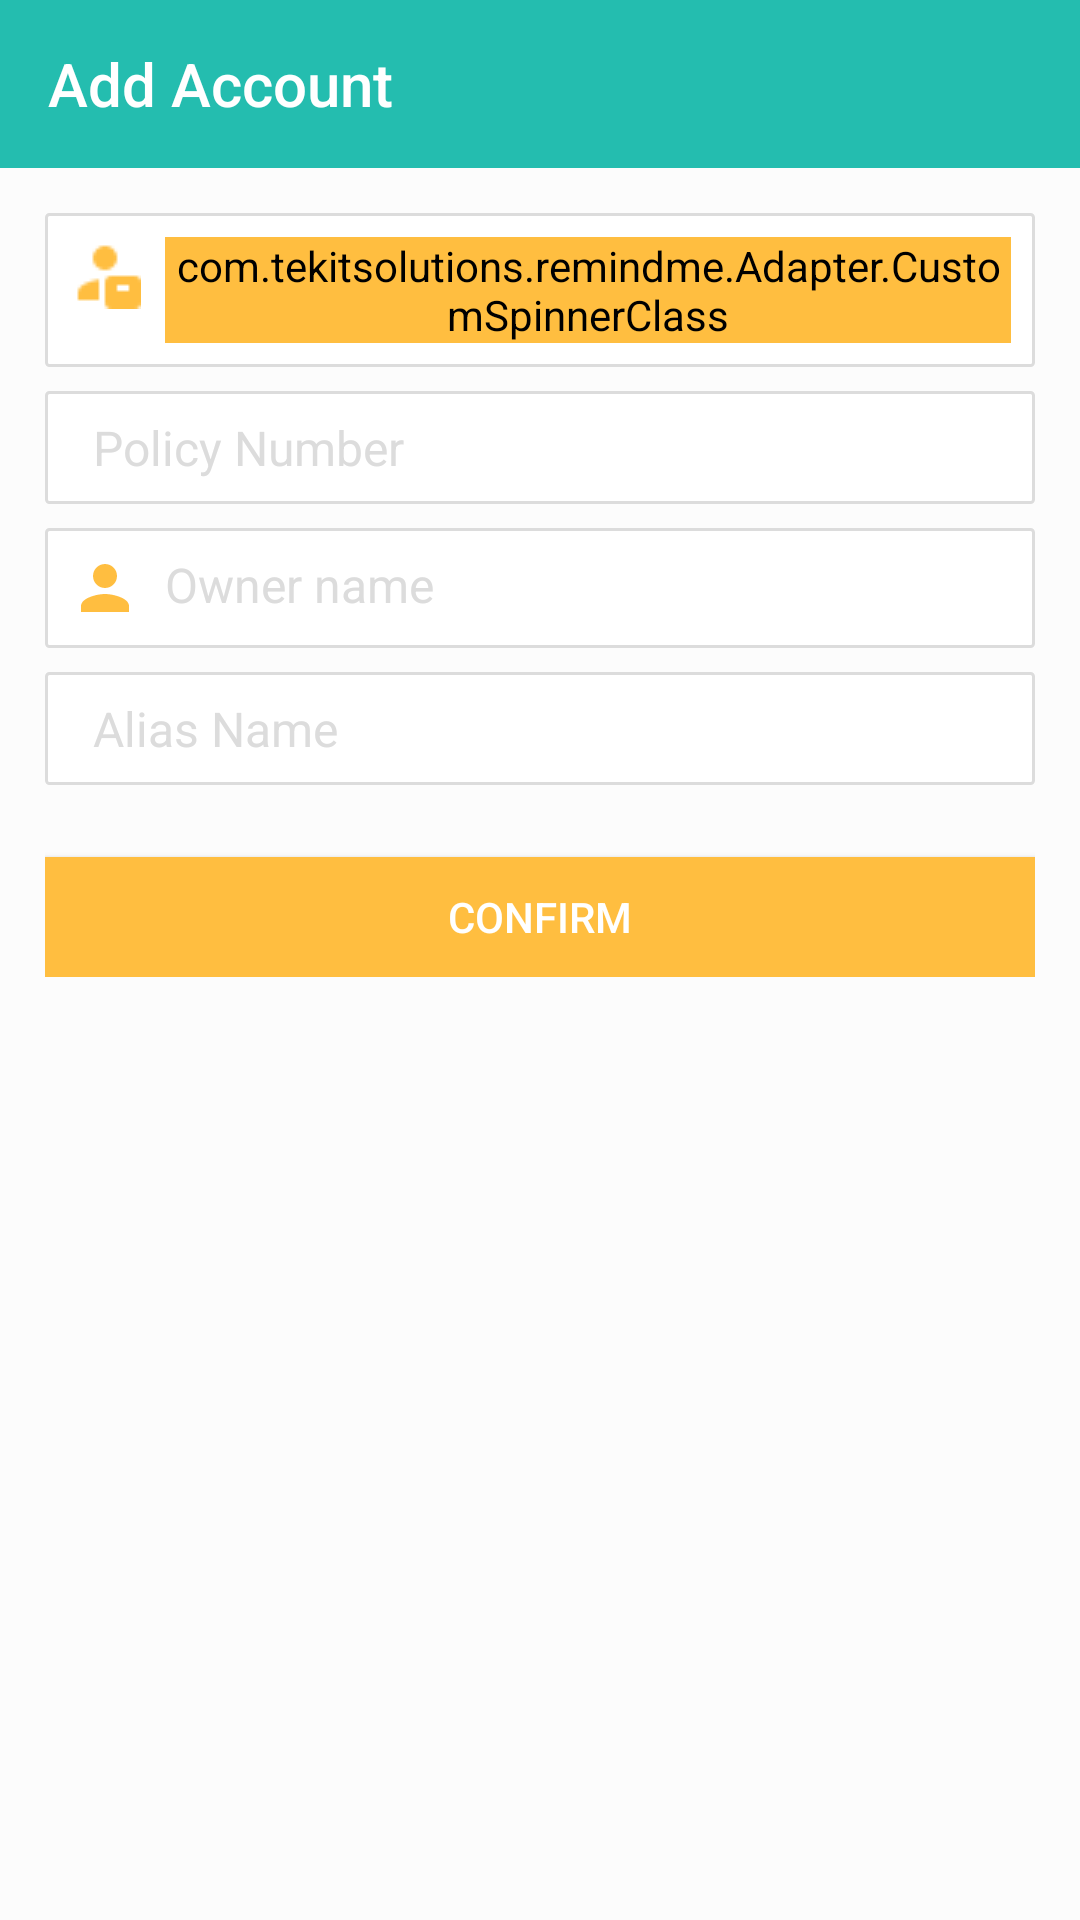

Icons on this 1080 x 1920 Android screen, each with its box as {"left": x1, "top": y1, "right": x2, "bottom": y2}:
provider: {"left": 77, "top": 245, "right": 141, "bottom": 309}
